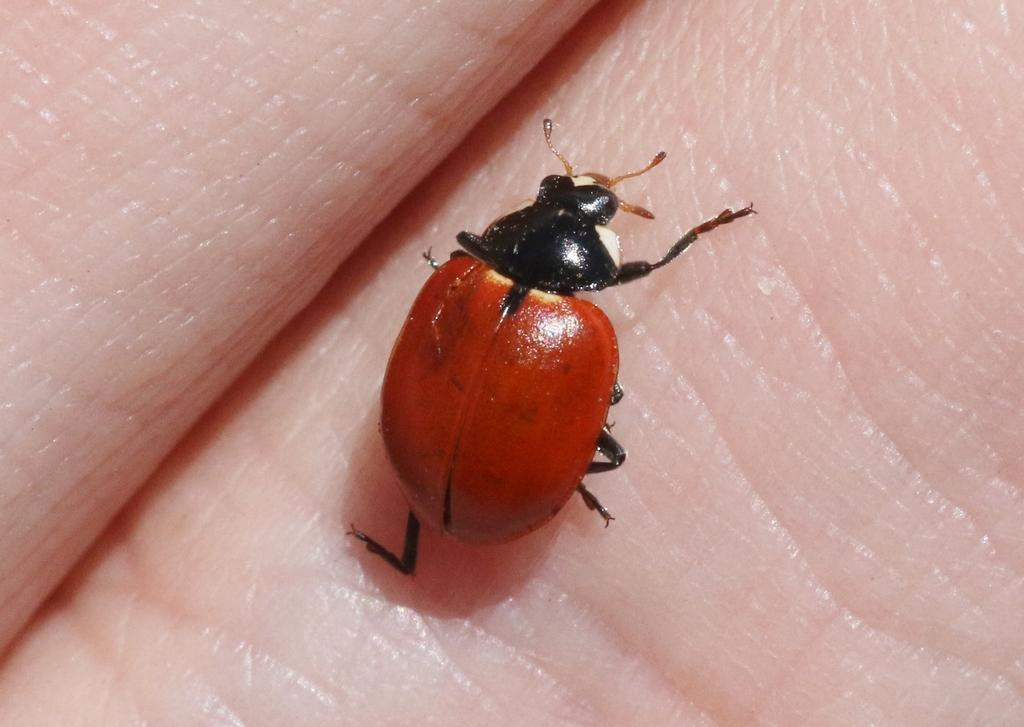ladybug: (335, 107, 763, 587)
